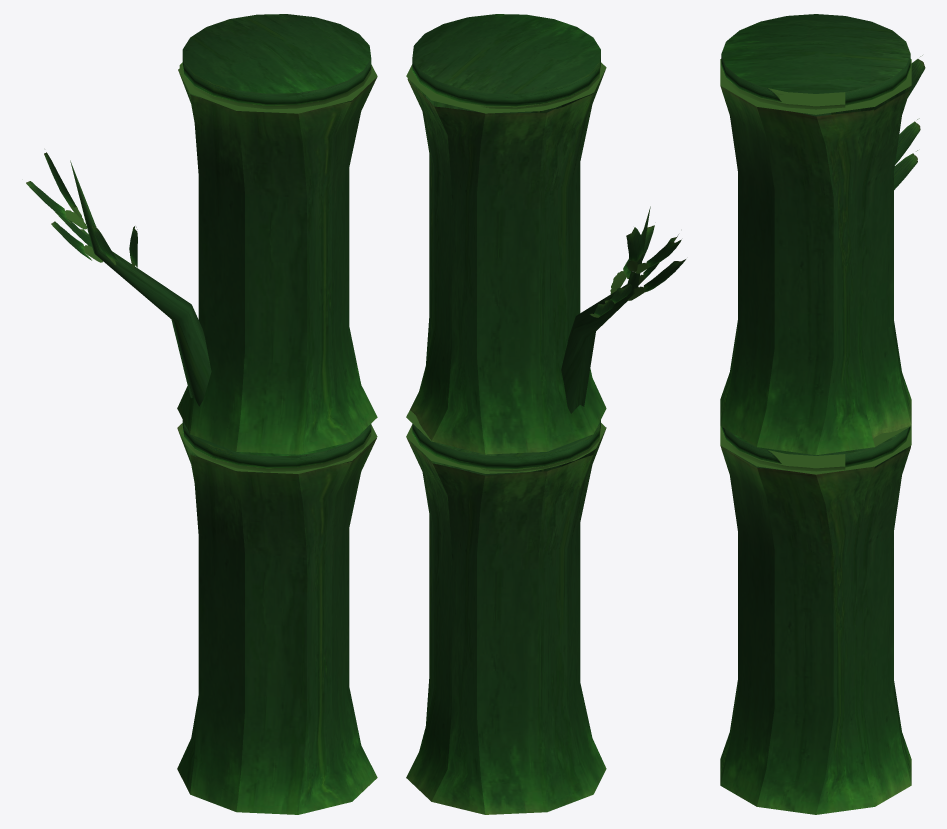
File: Bamboo.FBX
3 renders of one model, left to right at view 1: azimuth 30°, elevation 25°; view 2: azimuth 150°, elevation 25°; view 3: azimuth 270°, elevation 25°, orthographic.
Parts seen in each view (by area): view 1: BambooStaff; view 2: BambooStaff; view 3: BambooStaff.
Part boxes in pixels (box(x1,y1,x2,y2)): BambooStaff: box(26, 14, 377, 814); BambooStaff: box(406, 14, 685, 814); BambooStaff: box(720, 14, 925, 814).
Bounding box in the file's own units: 2.38 × 5.37 × 1.43.
